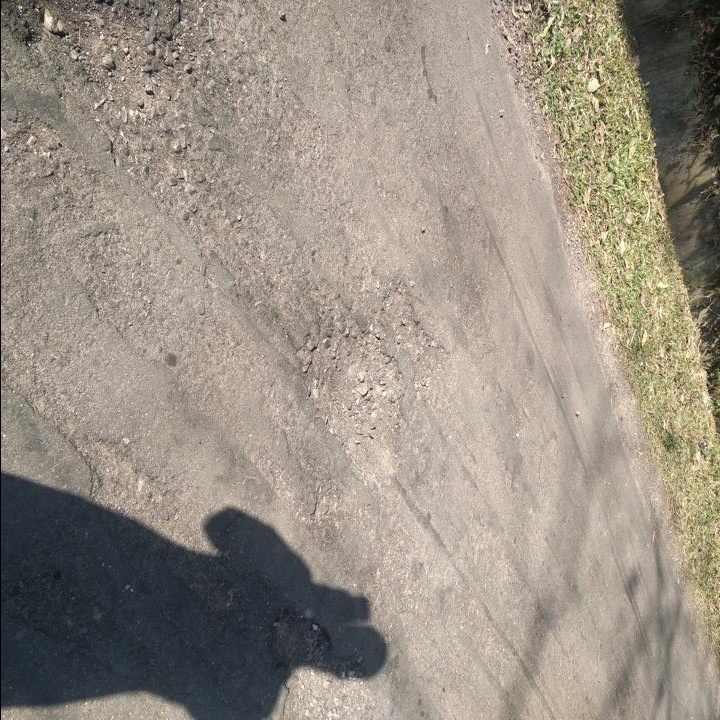pothole: (295, 318, 406, 489), (48, 0, 172, 122), (382, 277, 453, 398)
